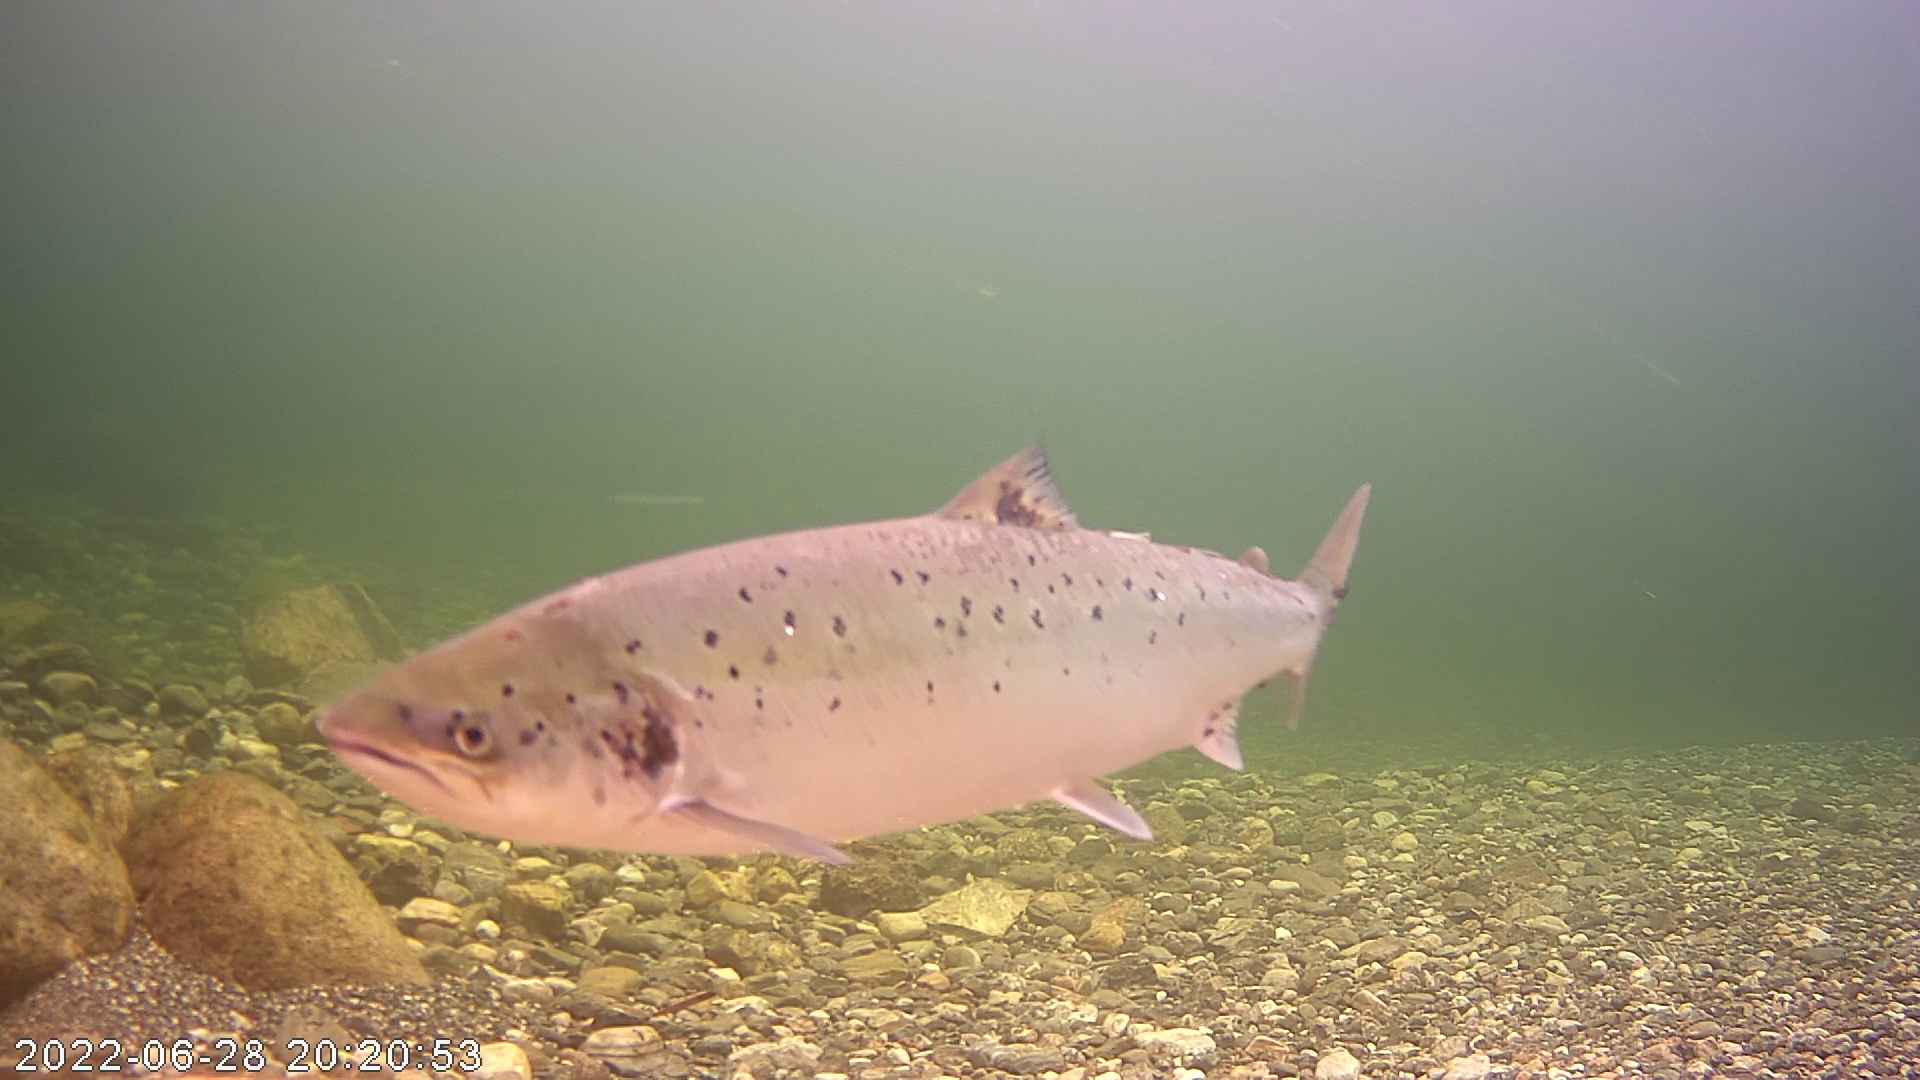salmon: (289, 389, 1371, 864)
